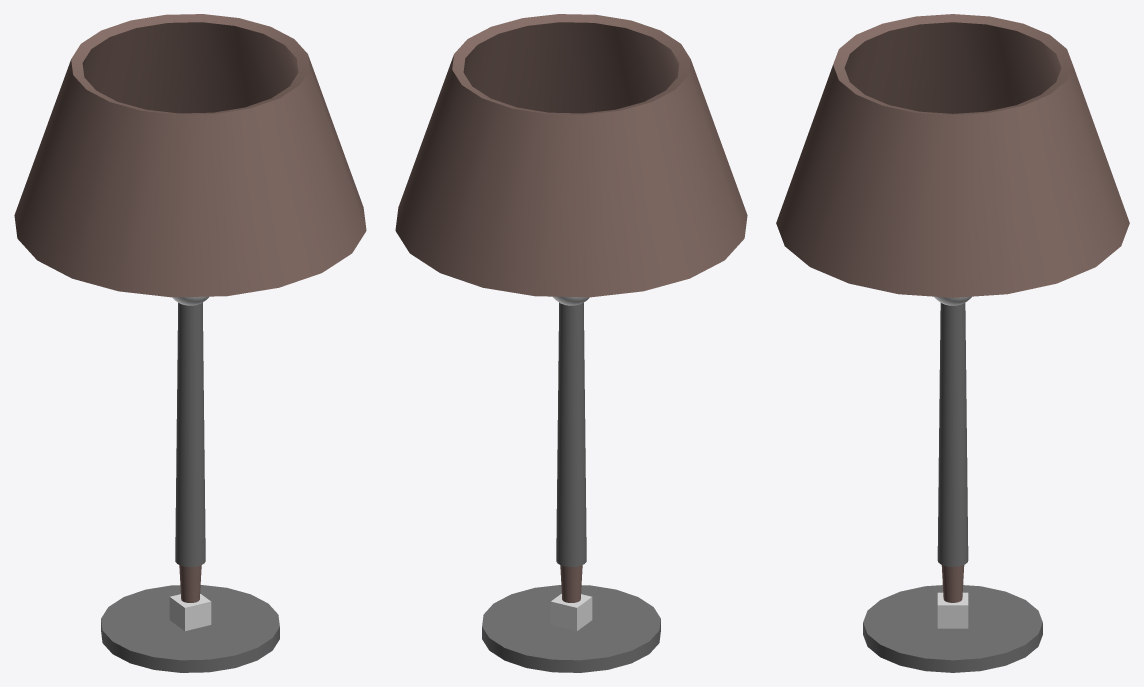
Rendered from colored bed table lamp.fbx.
3 views of the same model, side by side, from view 1: azimuth 30°, elevation 25°; view 2: azimuth 150°, elevation 25°; view 3: azimuth 270°, elevation 25° (orthographic).
Parts seen in each view (by area): view 1: polySurface10, polySurface2, polySurface6, polySurface5, polySurface4; view 2: polySurface10, polySurface2, polySurface6, polySurface5, polySurface4; view 3: polySurface10, polySurface2, polySurface6, polySurface5, polySurface4.
Boxes of the visible parts, x1=… form: polySurface10: x1=14, y1=14, x2=366, y2=297; polySurface2: x1=101, y1=585, x2=279, y2=672; polySurface6: x1=175, y1=302, x2=205, y2=566; polySurface5: x1=169, y1=594, x2=211, y2=631; polySurface4: x1=179, y1=565, x2=201, y2=602; polySurface10: x1=395, y1=14, x2=747, y2=297; polySurface2: x1=482, y1=585, x2=660, y2=672; polySurface6: x1=556, y1=302, x2=586, y2=566; polySurface5: x1=550, y1=594, x2=592, y2=631; polySurface4: x1=560, y1=565, x2=582, y2=602; polySurface10: x1=776, y1=14, x2=1129, y2=297; polySurface2: x1=863, y1=585, x2=1042, y2=672; polySurface6: x1=937, y1=303, x2=968, y2=566; polySurface5: x1=937, y1=592, x2=968, y2=628; polySurface4: x1=941, y1=565, x2=964, y2=602.
Bounding box in the file's own units: 0.2973 × 0.5289 × 0.2973.
